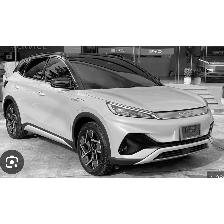EV: (5, 51, 216, 177)
